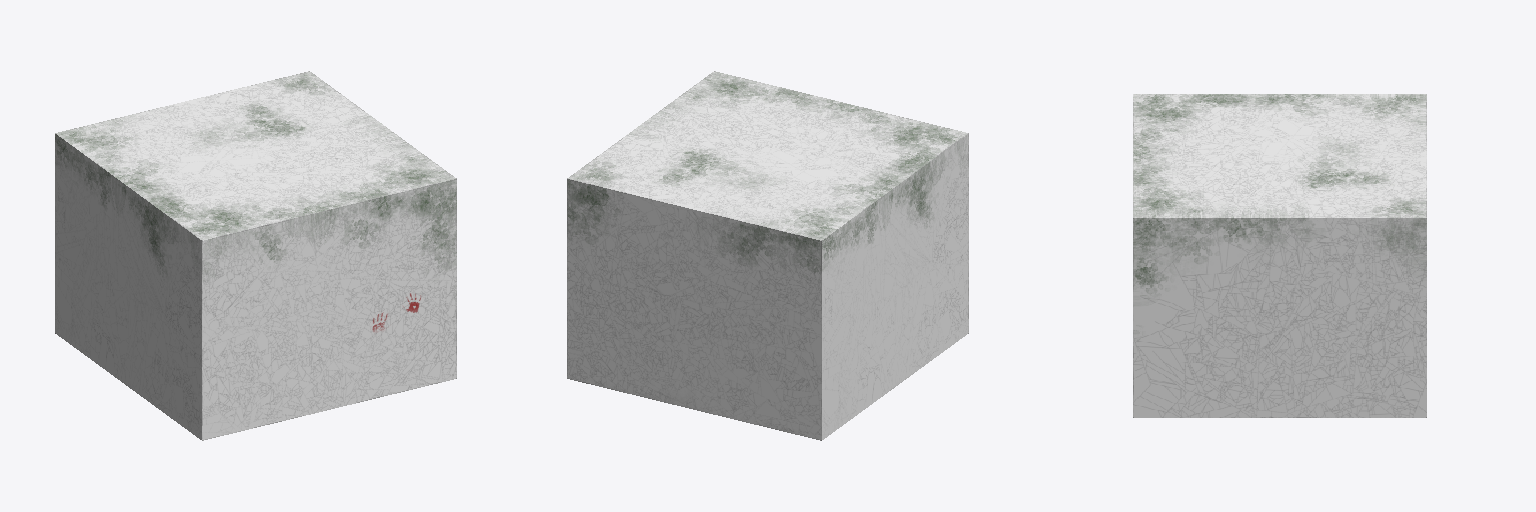
3 renders of one model, left to right at view 1: azimuth 30°, elevation 25°; view 2: azimuth 150°, elevation 25°; view 3: azimuth 270°, elevation 25°, orthographic.
Parts seen in each view (by area): view 1: room; view 2: room; view 3: room.
Boxes of the visible parts, <box> form: room: <box>55,71,456,440</box>; room: <box>567,71,968,440</box>; room: <box>1133,94,1426,417</box>.
Bounding box in the file's own units: 400 × 300 × 400.
Materials: 1 (1 with a texture image).